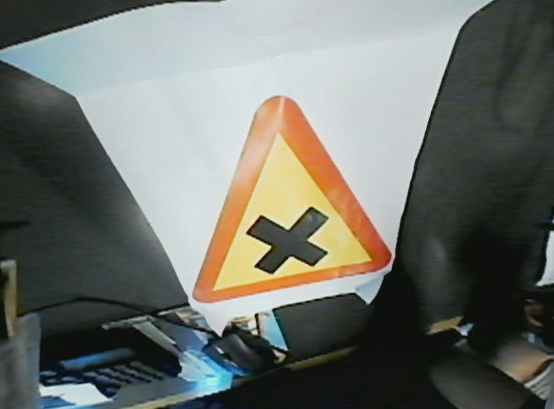junction: (176, 94, 432, 307)
